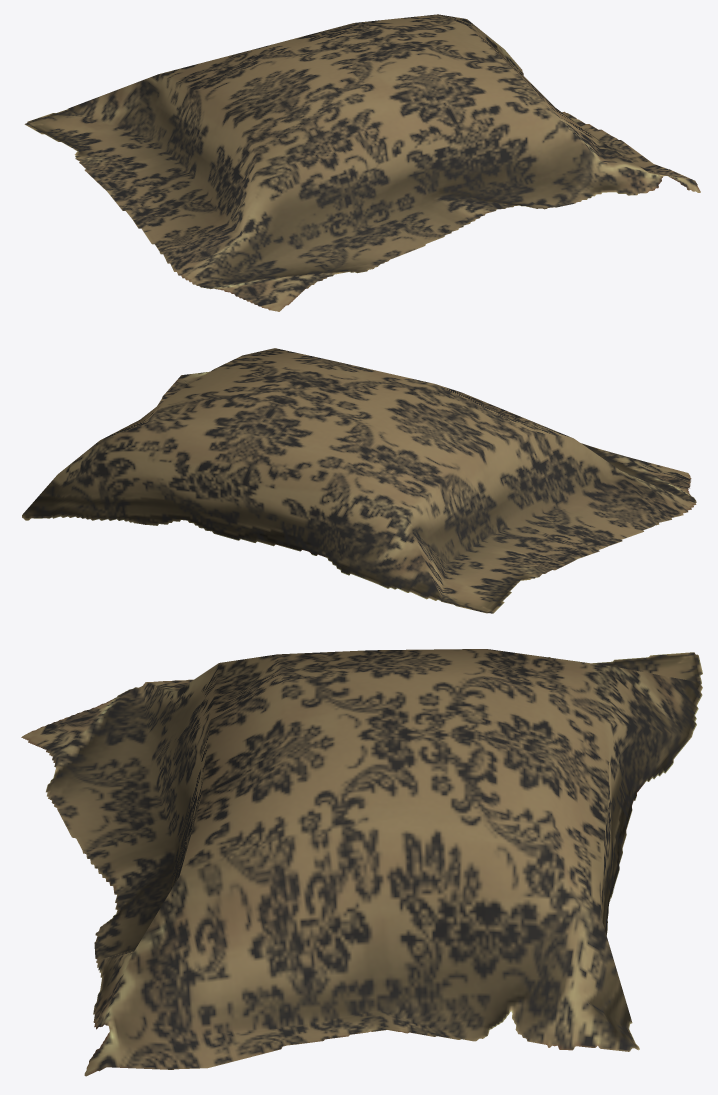
Rendered from Pillow01.FBX.
3 views of the same model, one above another, from view 1: azimuth 30°, elevation 25°; view 2: azimuth 150°, elevation 25°; view 3: azimuth 270°, elevation 25° (orthographic). The views are drawn at different scales.
Parts seen in each view (by area): view 1: Pillow01; view 2: Pillow01; view 3: Pillow01.
Boxes of the visible parts, x1,y1,x2,y2 form: Pillow01: (24, 14, 700, 311); Pillow01: (22, 348, 696, 613); Pillow01: (21, 649, 702, 1076).
Bounding box in the file's own units: 127 × 98.87 × 29.93.
